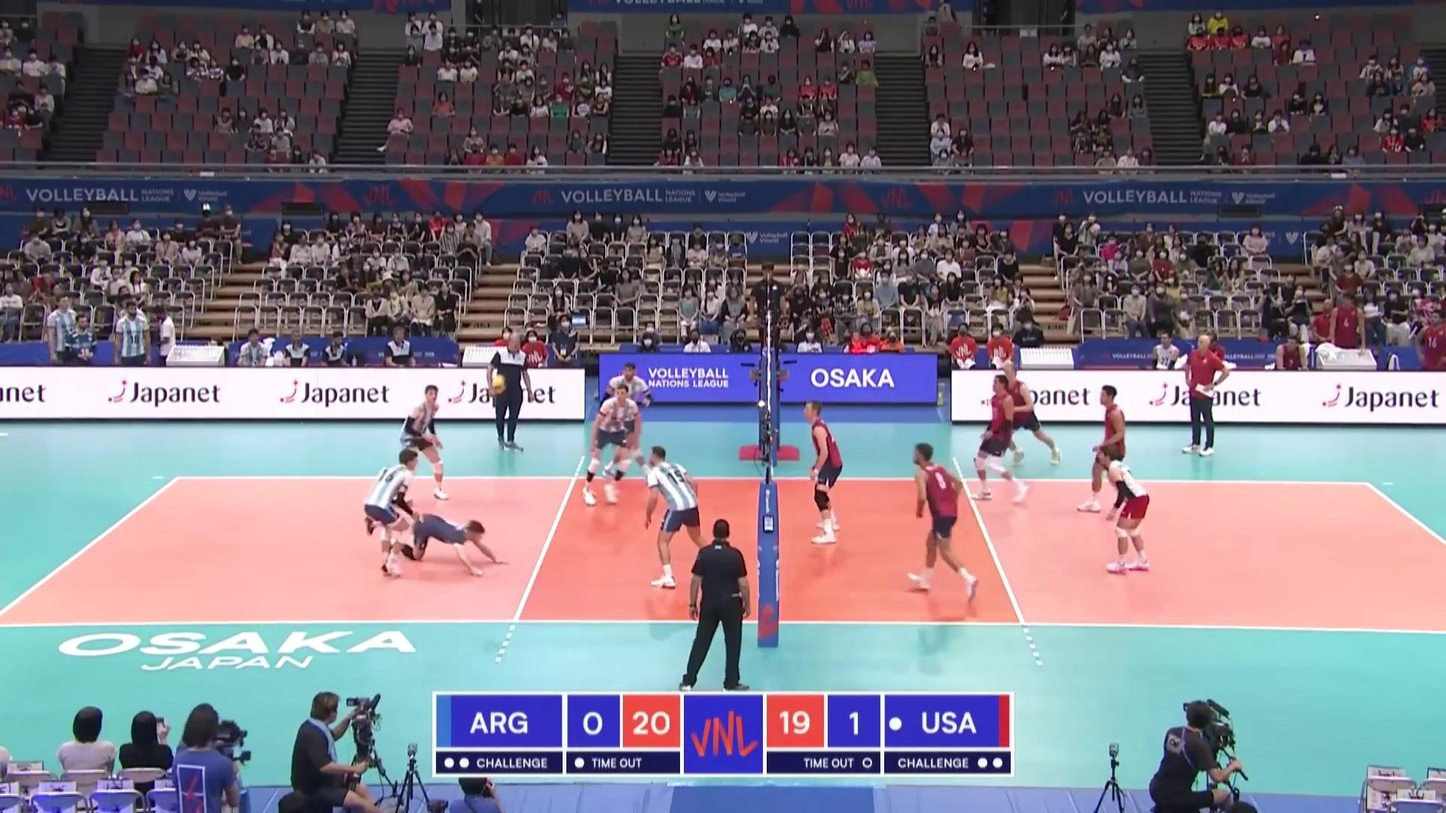player: (903, 444, 978, 600), (642, 448, 712, 588), (366, 513, 512, 578), (969, 375, 1031, 505), (1095, 444, 1152, 575), (361, 451, 419, 577), (578, 386, 637, 505), (999, 365, 1065, 470), (799, 400, 846, 546), (1077, 385, 1129, 514), (395, 385, 448, 501), (601, 361, 652, 477)
refree: (683, 517, 749, 690), (749, 264, 788, 375)
